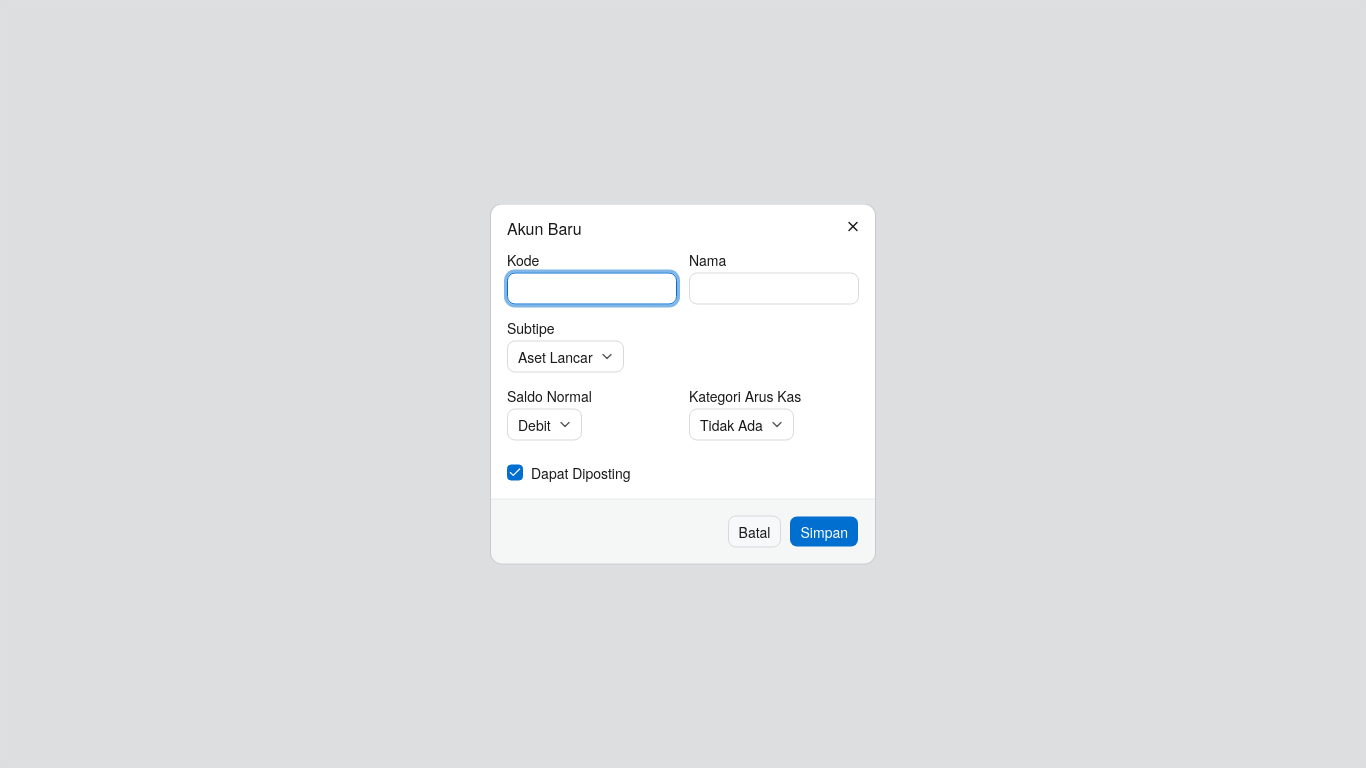
Test: shows a required field error for an empty name on submit
Type "1-2000" into the field labelled "Kode". click: (592, 288)
box: [507,272,677,304]
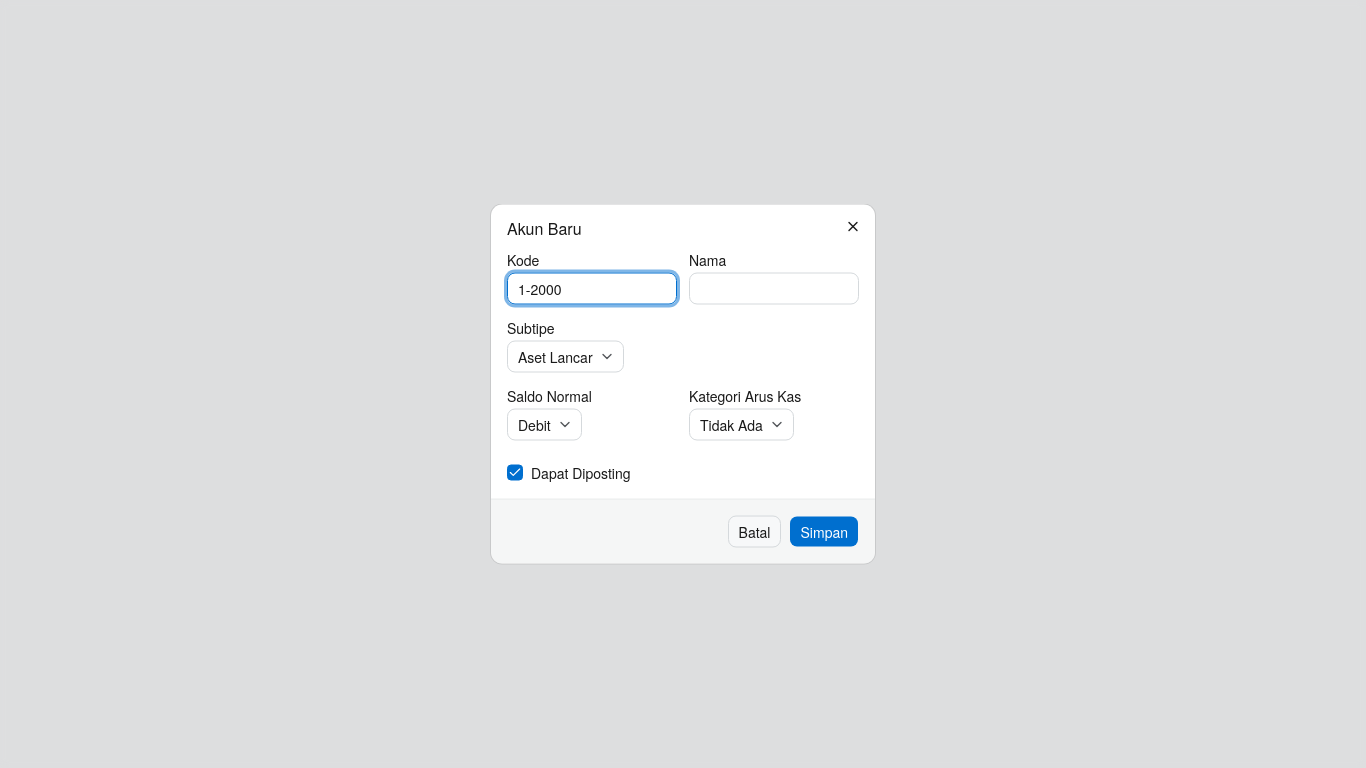
Click the dropdown named "subtipe". click: (565, 356)
box: [507,340,624,372]
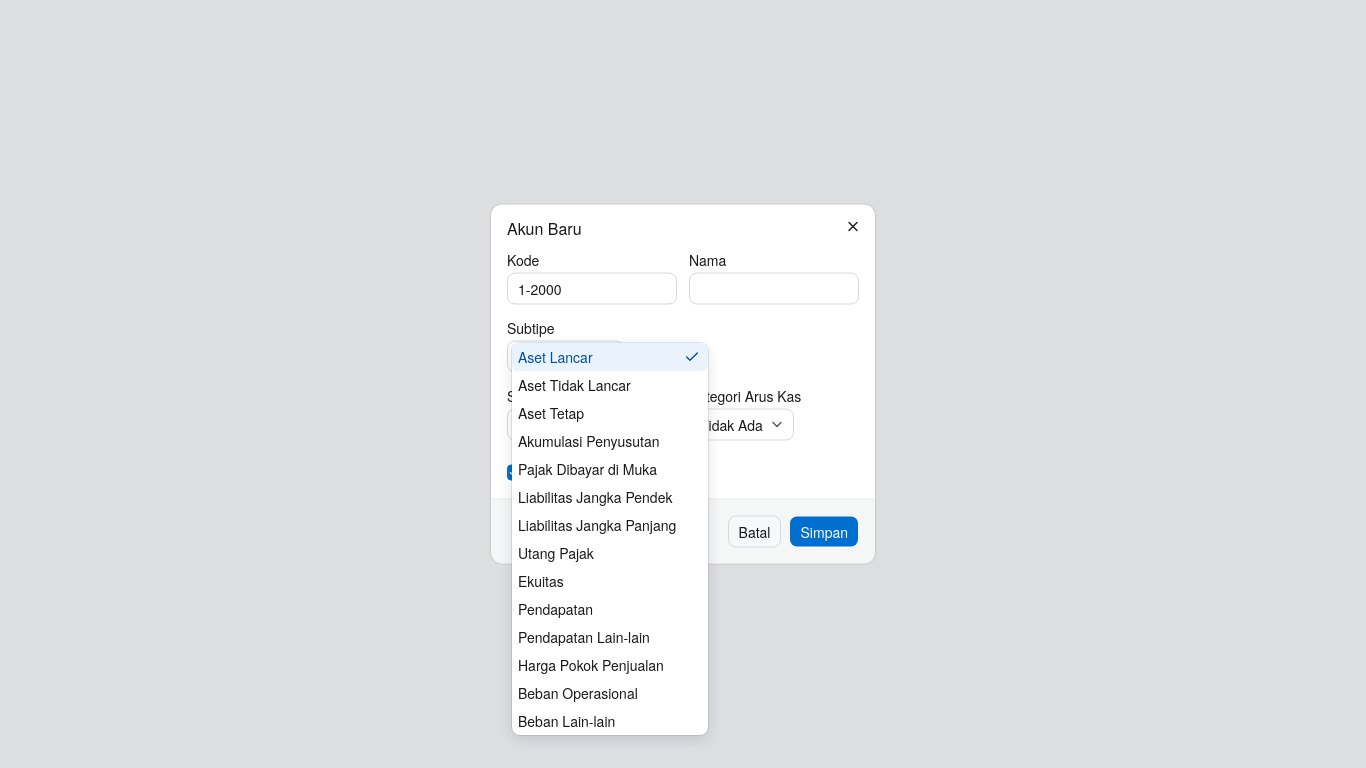
Click the option "Aset Lancar". click: (610, 356)
box: [512,342,708,370]
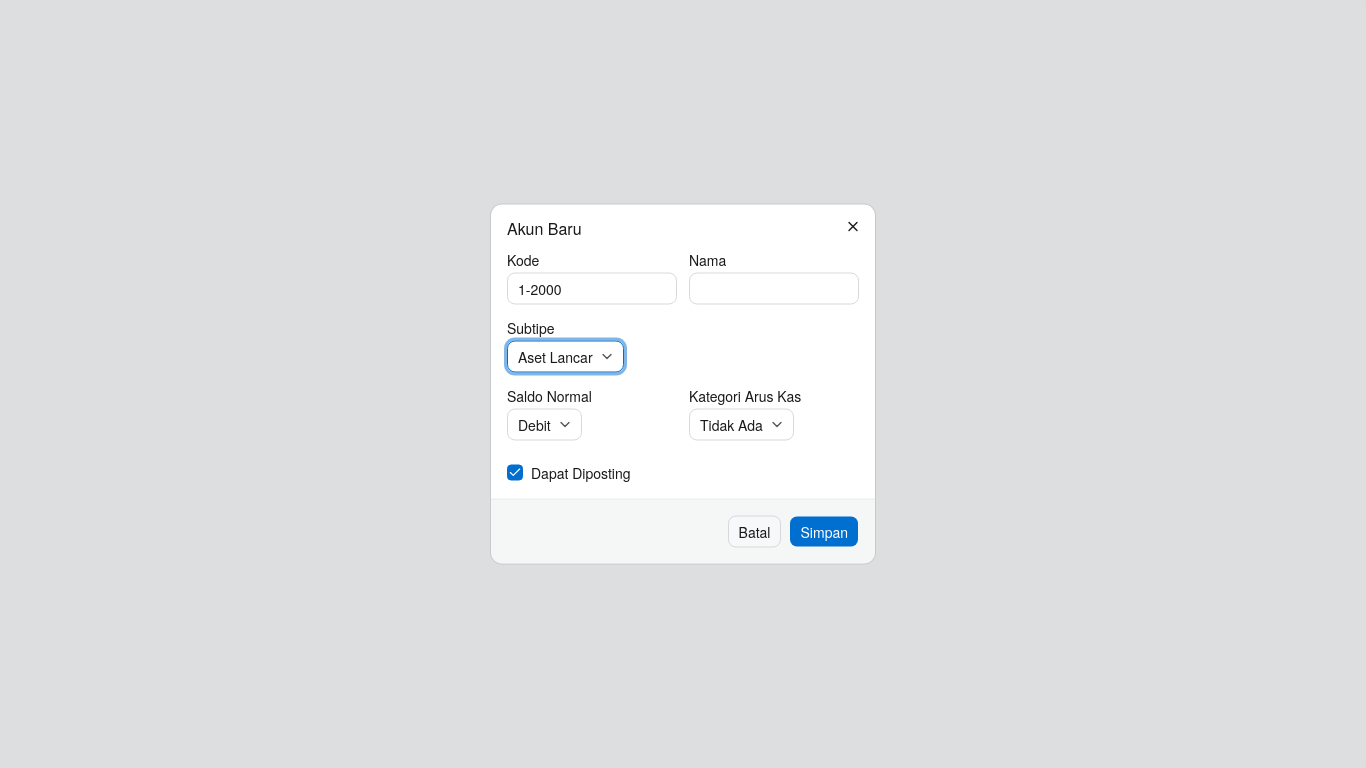
Click the button "Simpan". click: (824, 532)
box: [790,516,859,548]
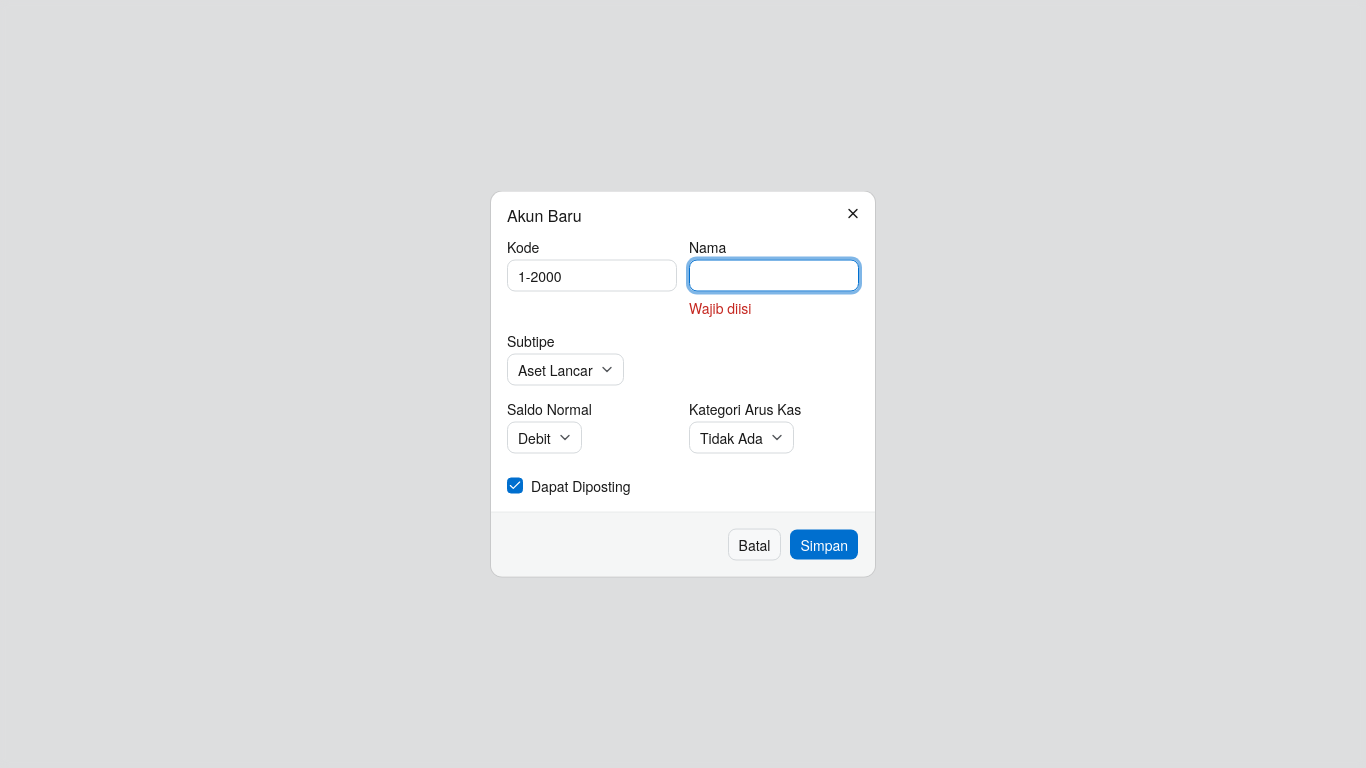
Check: the text "Wajib diisi" is shown, box [689,298,752,318]
